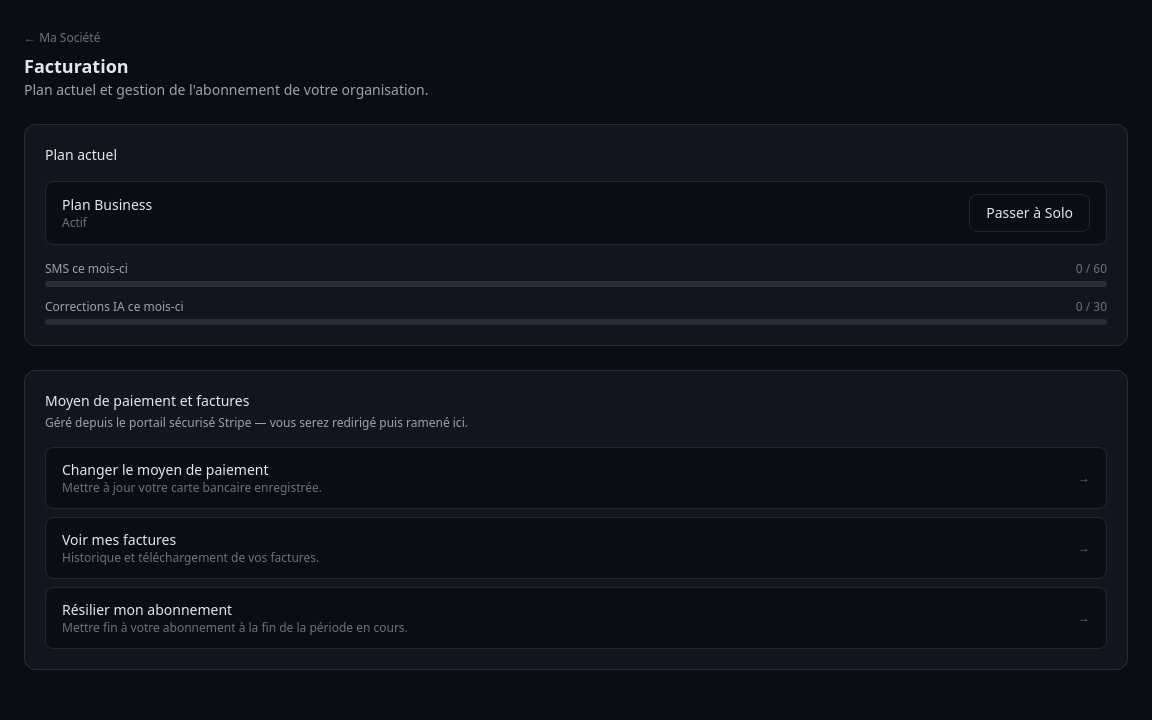
it: BillingContent — compte organisation › limite à 3 projets sélectionnables lors d'un downgrade nécessitant une sélection
Click the button "Passer à Solo" at (1030, 213), box [969,194,1090,232]
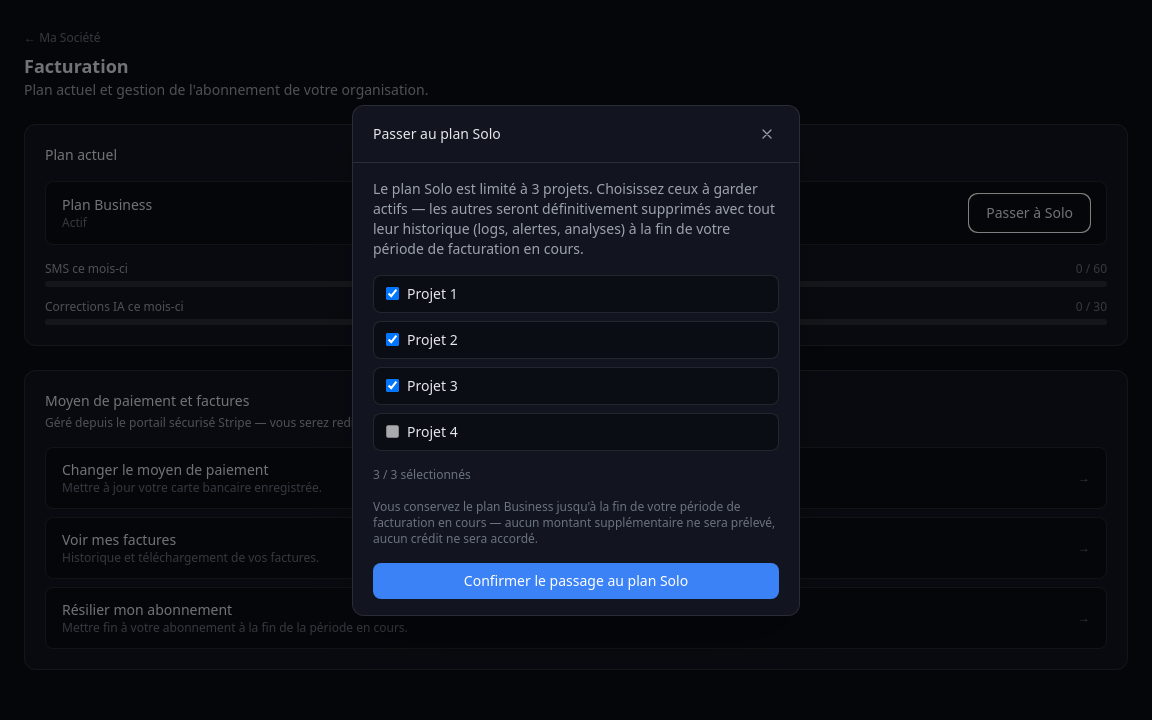
expect the text "3 / 3 sélectionnés" is shown: met, box [373,466,471,482]
expect the checkbox labelled "Projet 4" is disabled: met, box [386,425,399,438]
